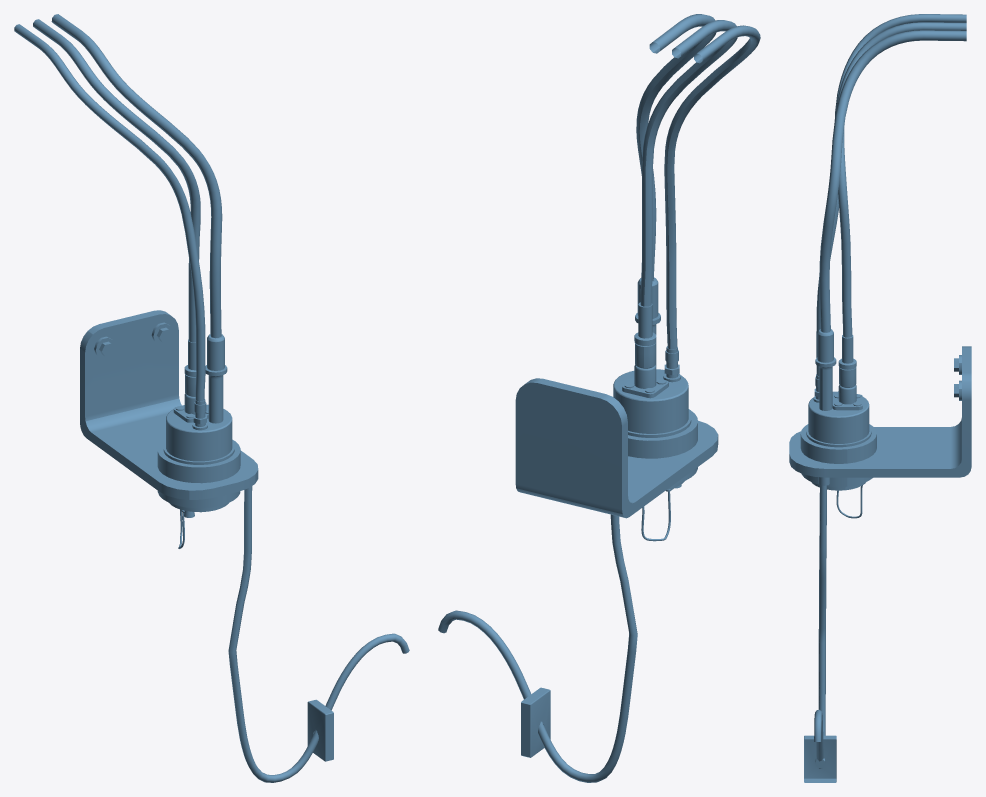
File: FHXY_02BX_A22_JingQiGuan_MD_L_exp.fbx
The picture shows the model from 3 angles, left to right: view 1: azimuth 30°, elevation 25°; view 2: azimuth 150°, elevation 25°; view 3: azimuth 270°, elevation 25°; orthographic projection. The views are drawn at different scales.
Parts seen in each view (by area): view 1: FHXY_02BX_A22_JingQiGuan_MD_L01_exp; view 2: FHXY_02BX_A22_JingQiGuan_MD_L01_exp; view 3: FHXY_02BX_A22_JingQiGuan_MD_L01_exp, FHXY_02BX_A22_JingQiGuan_MD_L02_exp.
Part boxes in pixels (x1=…): FHXY_02BX_A22_JingQiGuan_MD_L01_exp: x1=14, y1=14, x2=409, y2=782; FHXY_02BX_A22_JingQiGuan_MD_L01_exp: x1=438, y1=14, x2=760, y2=782; FHXY_02BX_A22_JingQiGuan_MD_L01_exp: x1=789, y1=14, x2=971, y2=782; FHXY_02BX_A22_JingQiGuan_MD_L02_exp: x1=817, y1=329, x2=833, y2=362.
Bounding box in the file's own units: 32.13 × 72.9 × 17.62.
